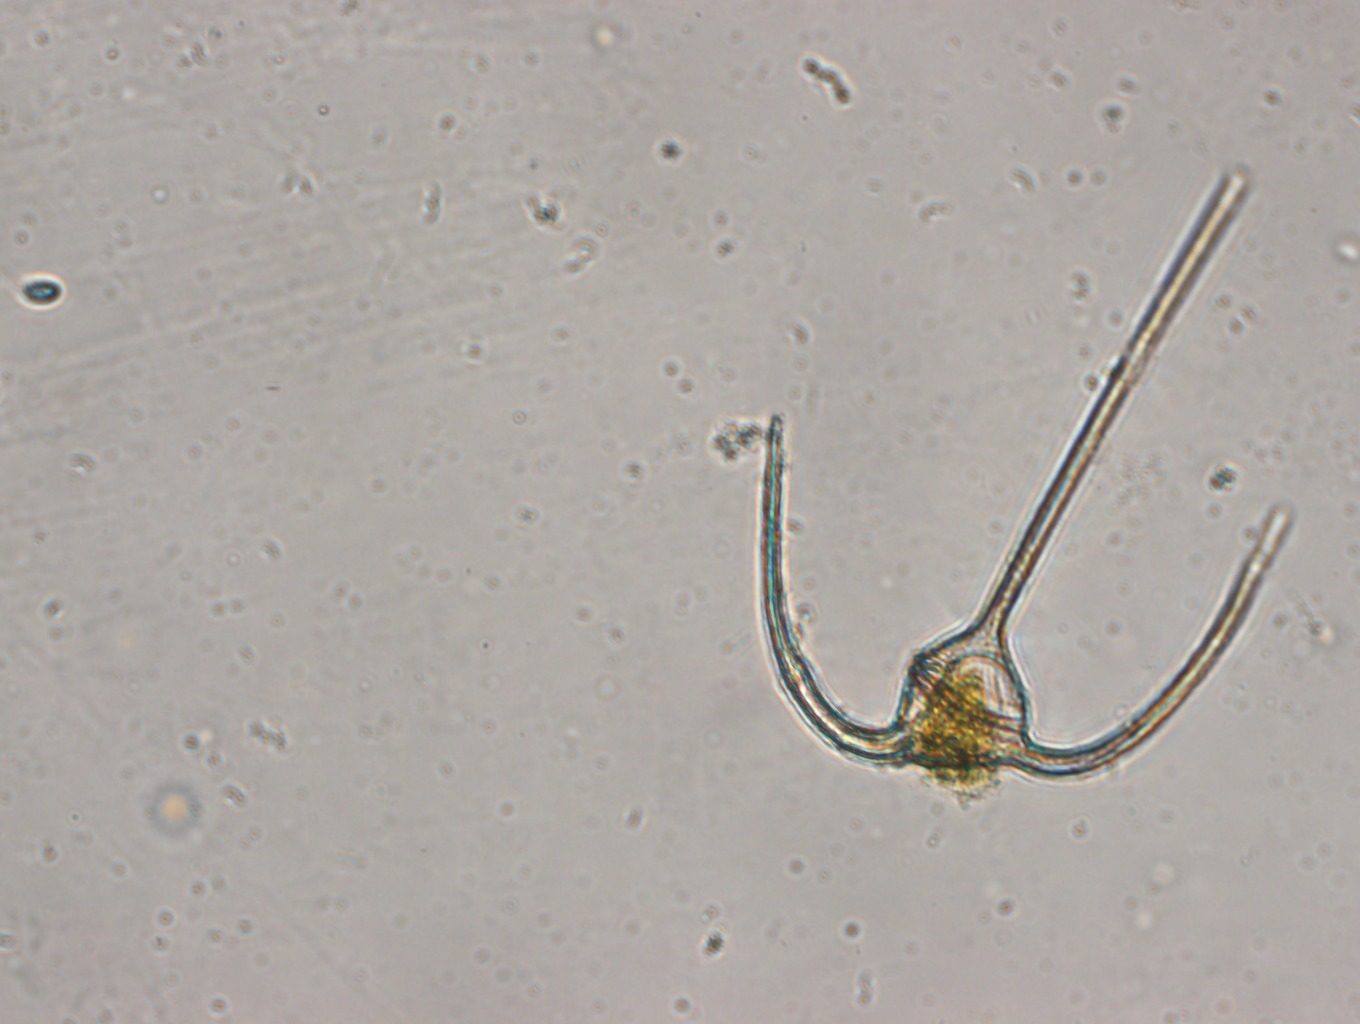ceratium trichoceros: (735, 150, 1295, 796)
